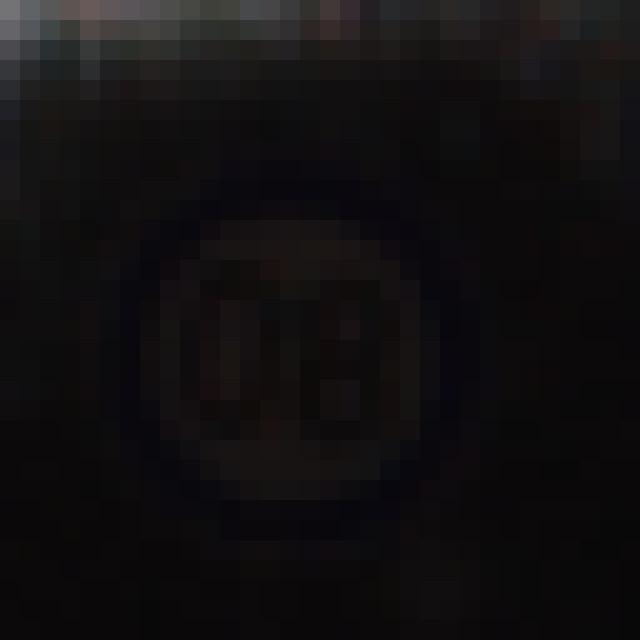SPEED-LIMIT-80: (110, 179, 476, 539)
